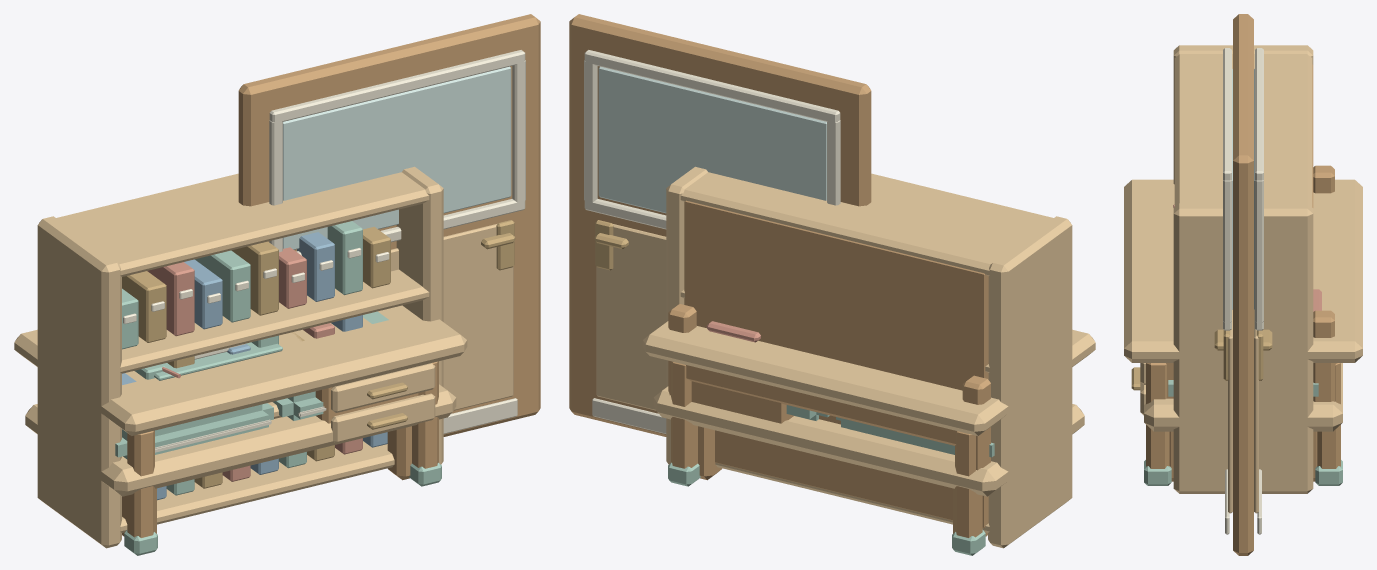
The model's file is school-furniture.glb.
3 views of the same model, side by side, from view 1: azimuth 30°, elevation 25°; view 2: azimuth 150°, elevation 25°; view 3: azimuth 270°, elevation 25° (orthographic).
Parts seen in each view (by area): view 1: shelf-light maple edge, desk-light maple edge, door-sky reflected upper pane, door-maple cabinet, door-light maple edge, door-limestone bands, bench-light maple edge, shelf-satin brass, shelf-sage cushion, shelf-blue book cover, desk-maple cabinet, shelf-clay book cover (+7 smaller); view 2: shelf-maple cabinet, shelf-light maple edge, door-maple cabinet, door-sky reflected upper pane, desk-light maple edge, bench-light maple edge, door-light maple edge, desk-maple cabinet, door-limestone bands, bench-maple cabinet, bench-sage cushion, desk-sage cushion (+1 smaller); view 3: shelf-light maple edge, desk-light maple edge, door-maple cabinet, door-limestone bands, desk-maple cabinet, bench-light maple edge, bench-maple cabinet, door-light maple edge, desk-sage cushion, door-satin brass, door-sky reflected upper pane.
Boxes of the visible parts, x1,y1,x2,y2 form: shelf-light maple edge: [37, 166, 443, 548]; desk-light maple edge: [14, 305, 467, 443]; door-sky reflected upper pane: [283, 66, 511, 249]; door-maple cabinet: [238, 14, 540, 436]; door-light maple edge: [391, 223, 513, 410]; door-limestone bands: [269, 50, 525, 433]; bench-light maple edge: [25, 384, 456, 496]; shelf-satin brass: [122, 226, 390, 488]; shelf-sage cushion: [122, 221, 388, 495]; shelf-blue book cover: [122, 232, 387, 500]; desk-maple cabinet: [127, 361, 438, 537]; shelf-clay book cover: [147, 247, 362, 481]; shelf-maple cabinet: [684, 200, 988, 528]; shelf-light maple edge: [666, 166, 1072, 548]; door-maple cabinet: [569, 14, 871, 436]; door-sky reflected upper pane: [598, 66, 826, 213]; desk-light maple edge: [642, 321, 1095, 435]; bench-light maple edge: [653, 386, 1084, 496]; door-light maple edge: [596, 223, 666, 410]; desk-maple cabinet: [671, 361, 982, 537]; door-limestone bands: [584, 50, 840, 433]; bench-maple cabinet: [668, 304, 990, 536]; bench-sage cushion: [786, 405, 994, 457]; desk-sage cushion: [668, 462, 985, 555]; shelf-light maple edge: [1173, 45, 1313, 493]; desk-light maple edge: [1124, 179, 1362, 415]; door-maple cabinet: [1233, 14, 1253, 555]; door-limestone bands: [1223, 48, 1263, 534]; desk-maple cabinet: [1146, 363, 1340, 468]; bench-light maple edge: [1144, 363, 1342, 431]; bench-maple cabinet: [1169, 165, 1334, 481]; door-light maple edge: [1228, 309, 1258, 513]; desk-sage cushion: [1144, 460, 1342, 485]; door-satin brass: [1214, 329, 1272, 380]; door-sky reflected upper pane: [1232, 69, 1254, 309].
Bounding box in the file's own units: 2.74 × 2.22 × 1.2.
